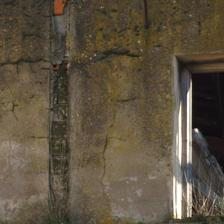Crack: (0, 68, 74, 125), (37, 11, 108, 47), (34, 0, 54, 78)
